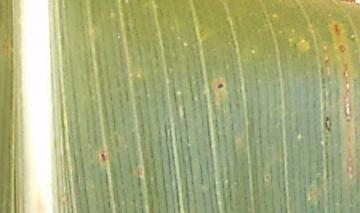tarspot: (323, 116, 335, 132), (214, 81, 227, 92), (98, 149, 109, 162)
